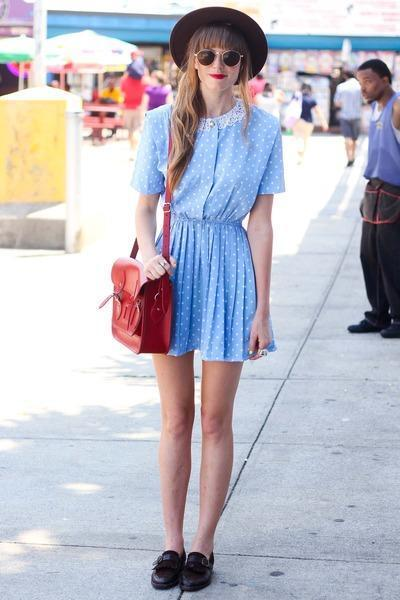bag: (99, 160, 187, 354)
dress: (129, 92, 290, 371)
hat: (156, 7, 267, 78)
shoe: (151, 548, 213, 599)
sunglass: (195, 51, 215, 90)
